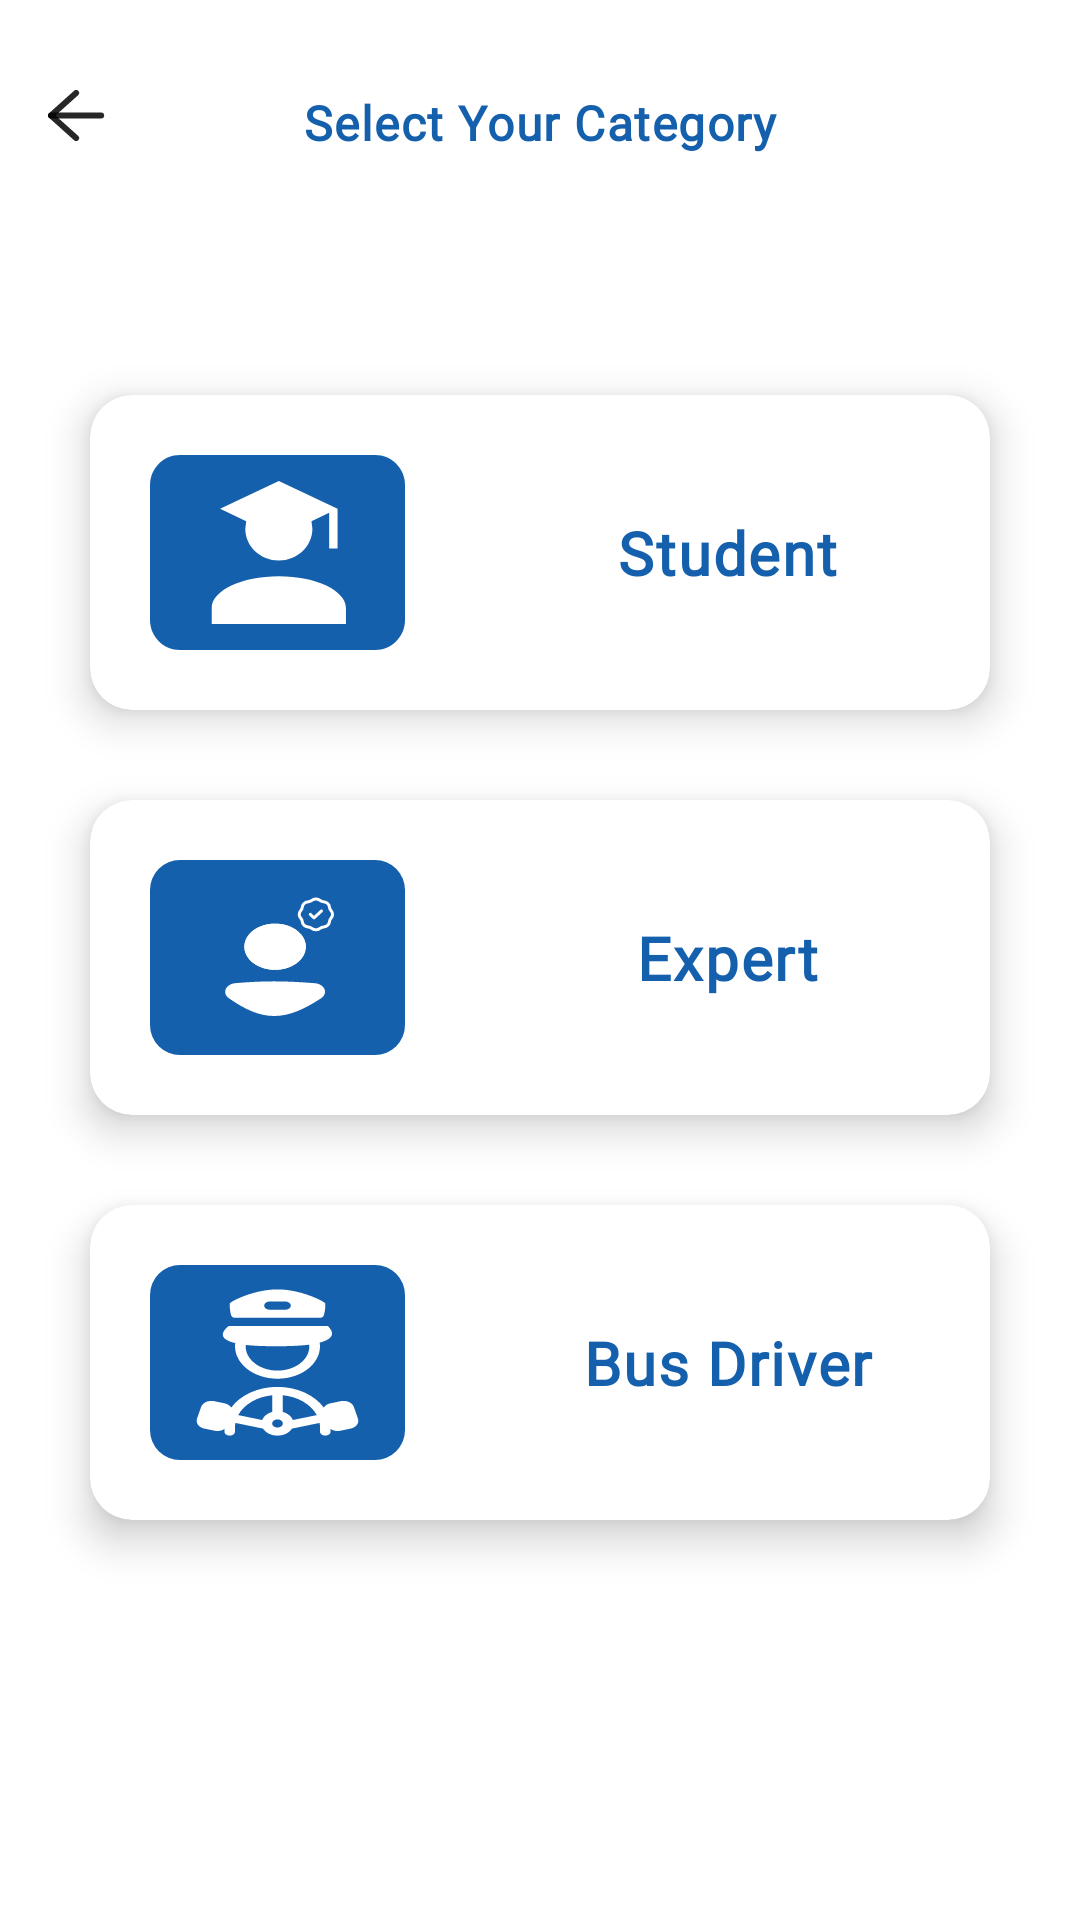

Where icons sit on this 1080*1920 app screen, as (x1, y1, x2, y2):
back arrow: (48, 90, 105, 141)
expert card: (90, 830, 405, 1055)
